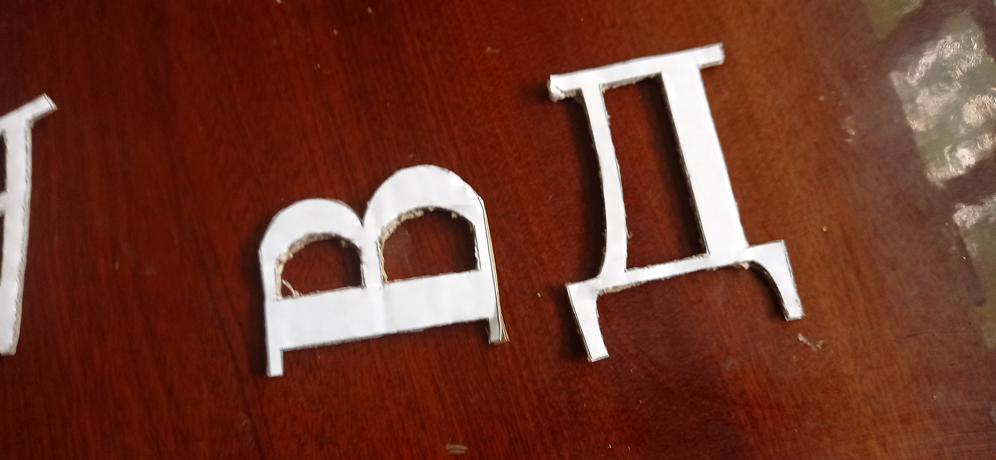a: (0, 93, 58, 358)
d: (548, 42, 806, 364)
v: (258, 162, 510, 378)
